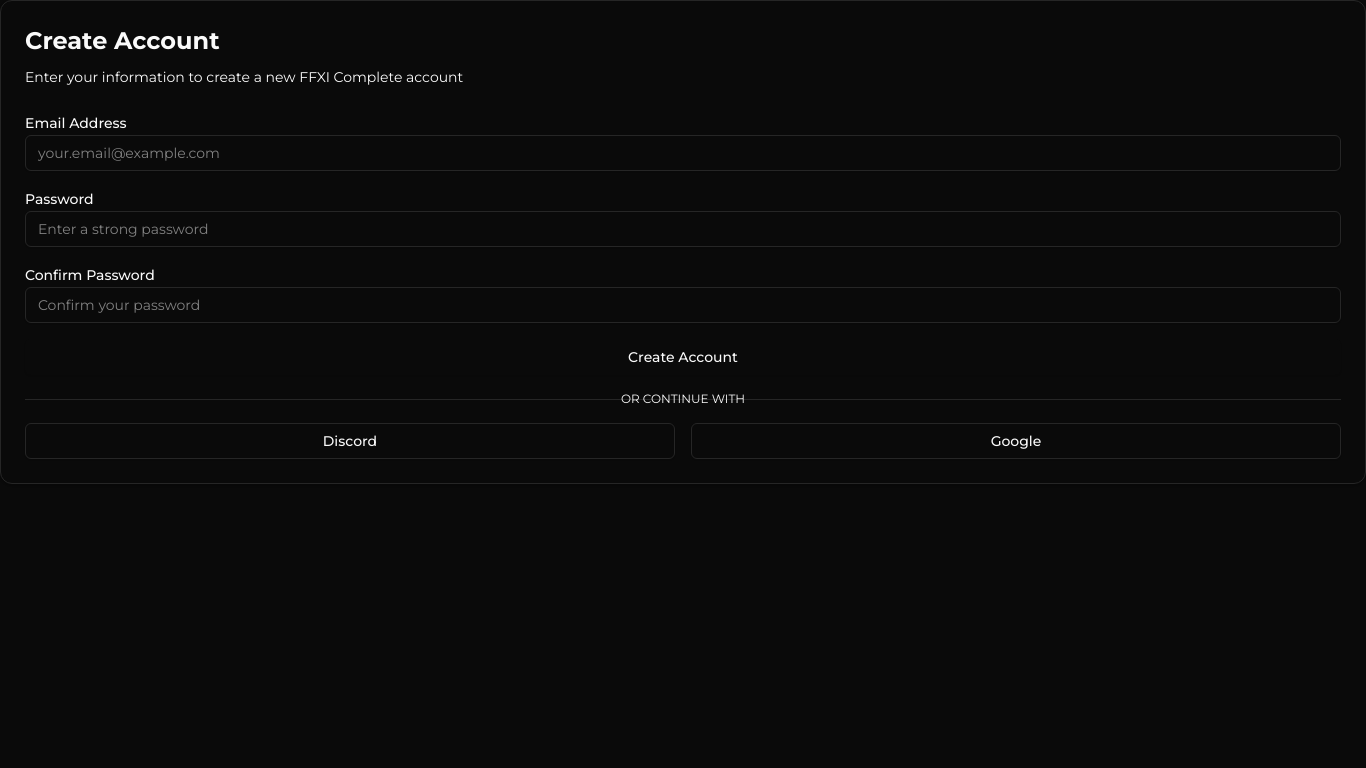
Test: RegisterForm › Form Submission › prevents submission with invalid data
Step 1. Click the button "Create Account" → (683, 357), box [25,339,1341,375]
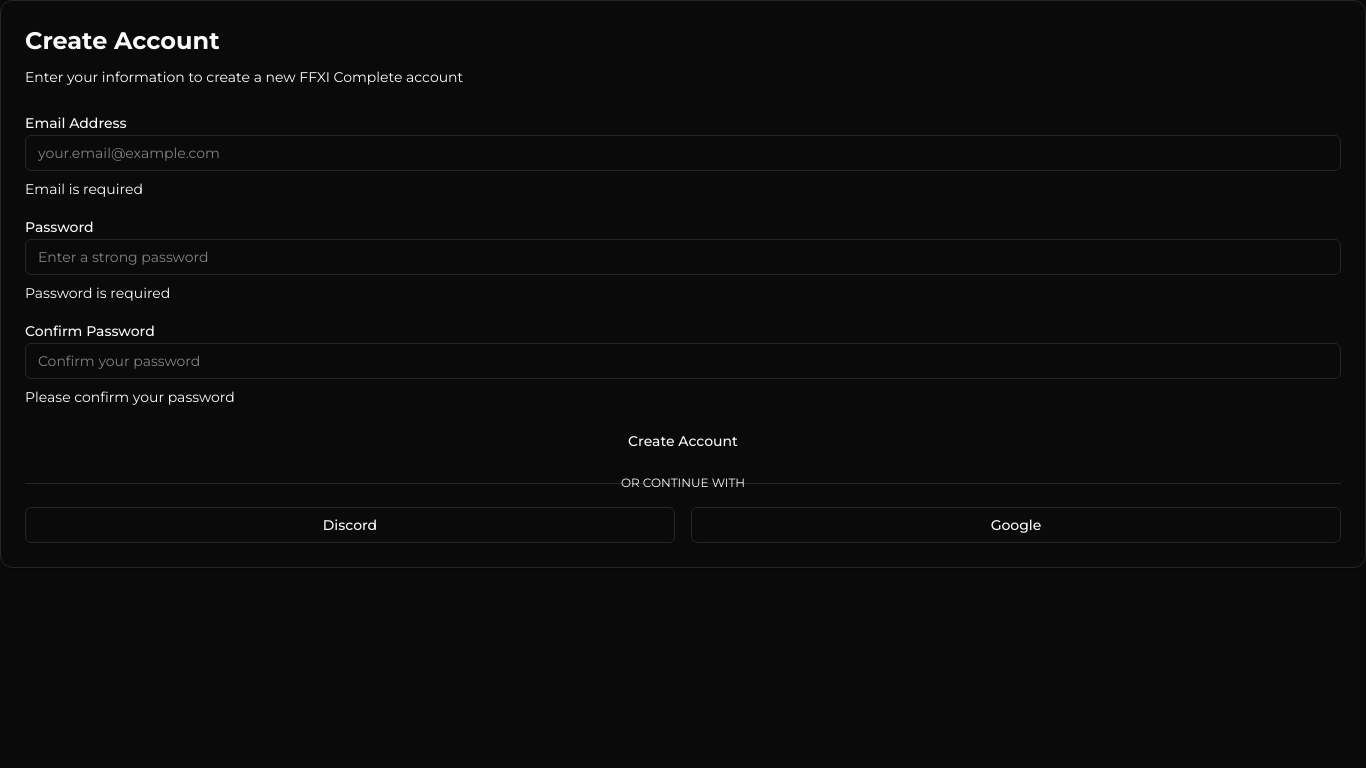
Check: the text "Email is required" is shown, box [25,180,143,198]
